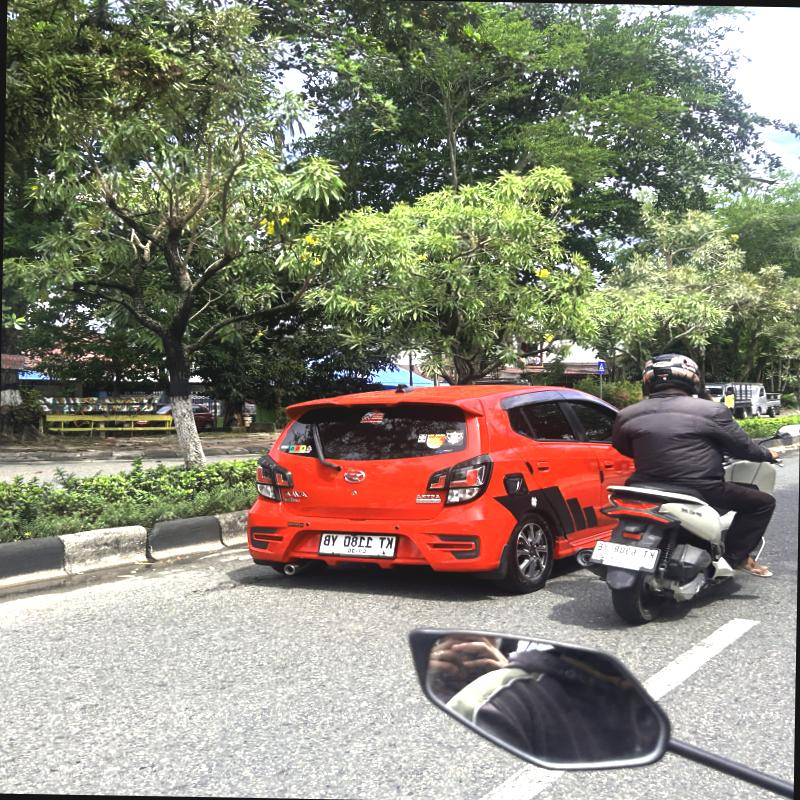license plate on a car: (318, 532, 396, 558)
